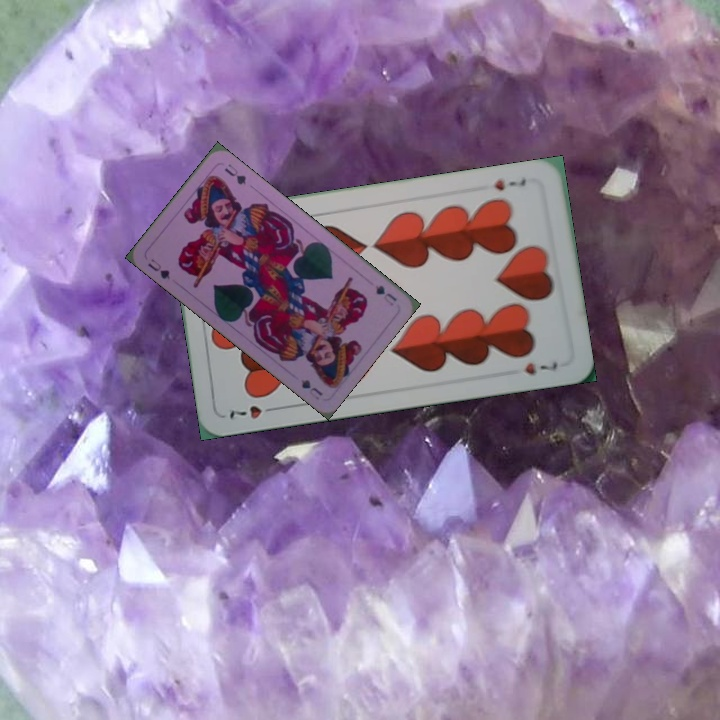GU: (143, 254, 173, 282), (371, 281, 400, 308)
H7: (225, 401, 281, 423), (490, 175, 529, 194)
